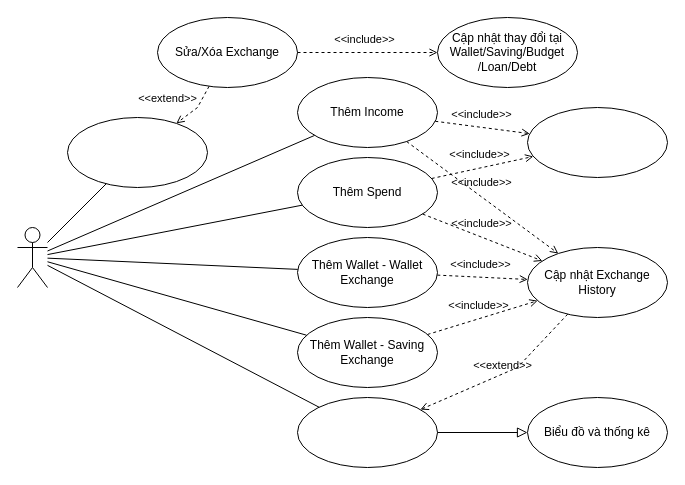
The diagram is 685 pixels wide and 485 high, and some of its shapes have lost their labels. The box of each missing label's shape, as (x1, y1, x2, y2) in pixels:
Cập nhật thay đổi trong Ngân sách: (526, 106, 668, 178)
Exchange History: (296, 396, 438, 468)
User: (16, 226, 48, 288)
Xem chi tiết Exchange: (66, 116, 208, 188)
